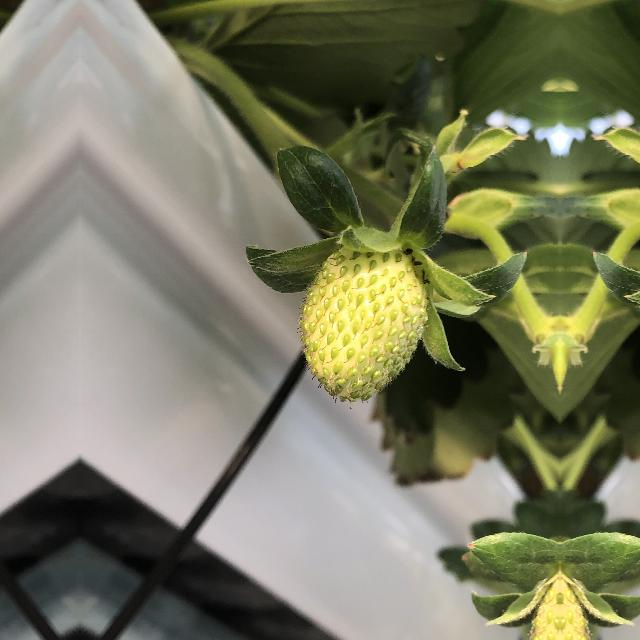Health_25: (296, 226, 430, 414)
